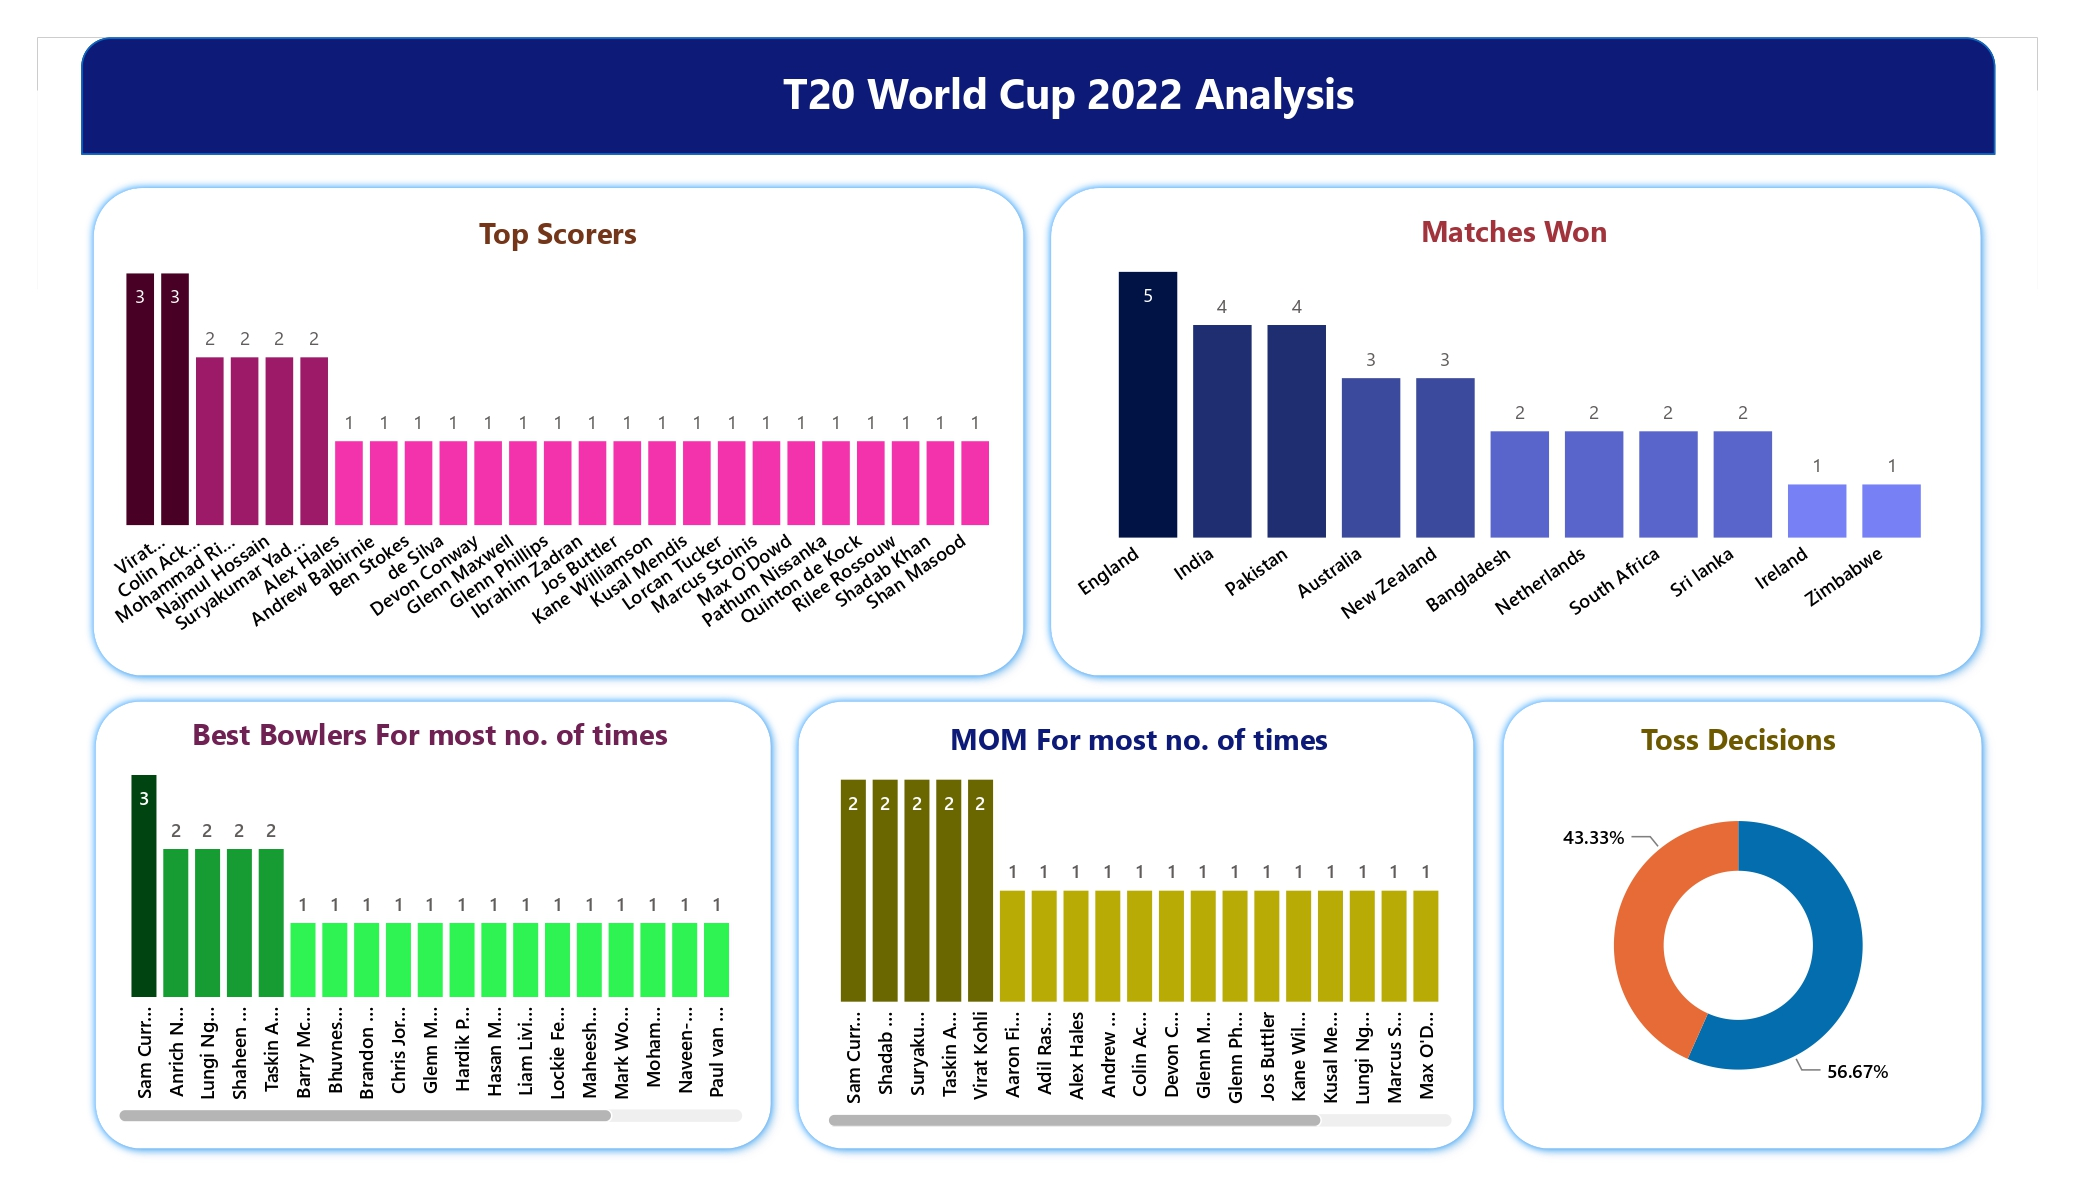

The page's visual inventory and layout, read from the dashboard file:
{"tool":"powerbi","page":{"name":"Page 1","canvas":[1280,720],"ordinal":0},"visuals":[{"type":"shape","box":[27.5,0,1225,75],"z":0},{"type":"textbox","box":[460,12,400,52],"z":1000},{"type":"shape","box":[26.7,86.7,613.3,330],"z":2000},{"type":"columnChart","title":"Top Scorers","fields":{"Category":["t20-world-cup-22.top scorer"],"Y":["t20-world-cup-22.top scorer"]},"box":[43.3,111.7,580,281.7],"z":3000},{"type":"shape","box":[640,86.7,613.3,330],"z":4000},{"type":"columnChart","title":"Matches Won","fields":{"Category":["t20-world-cup-22.winner"],"Y":["t20-world-cup-22.winner"]},"box":[660,111.4,570,281.4],"z":5000},{"type":"shape","box":[28,416,450,304],"z":5001},{"type":"columnChart","title":"Best Bowlers For most no. of times","fields":{"Category":["t20-world-cup-22.best bowler"],"Y":["t20-world-cup-22.best bowler"]},"box":[46.2,432.5,410,266.2],"z":5002},{"type":"shape","box":[478,416,450,304],"z":5003},{"type":"columnChart","title":"MOM For most no. of times","fields":{"Category":["t20-world-cup-22.player of the match"],"Y":["t20-world-cup-22.player of the match"]},"box":[500,436,410,266],"z":5004},{"type":"shape","box":[928.6,415.7,324.3,304.3],"z":5006},{"type":"donutChart","title":"Toss Decisions","fields":{"Category":["t20-world-cup-22.toss decision"],"Y":["t20-world-cup-22.toss decision"]},"box":[947.1,435.7,282.9,265.7],"z":5007}]}

Visuals, with their boxes on the page's 1280x720 design canvas (x1, y1, x2, y2). These are canvas units, not pixel positions in the 2075x1200 screenshot, which may show the page scaled, cropped or inside an application window:
shape: x1=28, y1=0, x2=1252, y2=75
textbox: x1=460, y1=12, x2=860, y2=64
shape: x1=27, y1=87, x2=640, y2=417
"Top Scorers" columnChart: x1=43, y1=112, x2=623, y2=393
shape: x1=640, y1=87, x2=1253, y2=417
"Matches Won" columnChart: x1=660, y1=111, x2=1230, y2=393
shape: x1=28, y1=416, x2=478, y2=720
"Best Bowlers For most no. of times" columnChart: x1=46, y1=432, x2=456, y2=699
shape: x1=478, y1=416, x2=928, y2=720
"MOM For most no. of times" columnChart: x1=500, y1=436, x2=910, y2=702
shape: x1=929, y1=416, x2=1253, y2=720
"Toss Decisions" donutChart: x1=947, y1=436, x2=1230, y2=701
